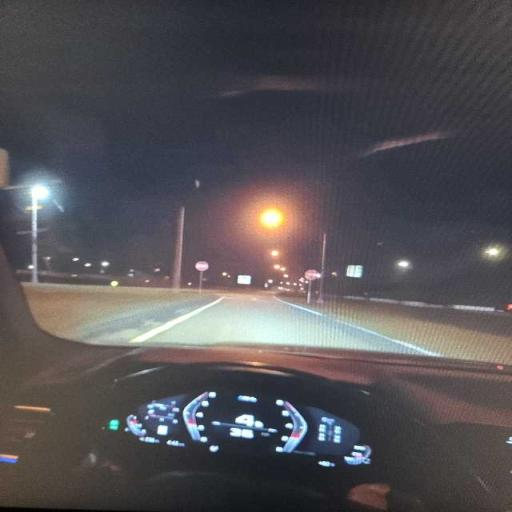car: (0, 253, 511, 510)
lane: (24, 284, 511, 364), (147, 294, 434, 354), (75, 294, 219, 344)
